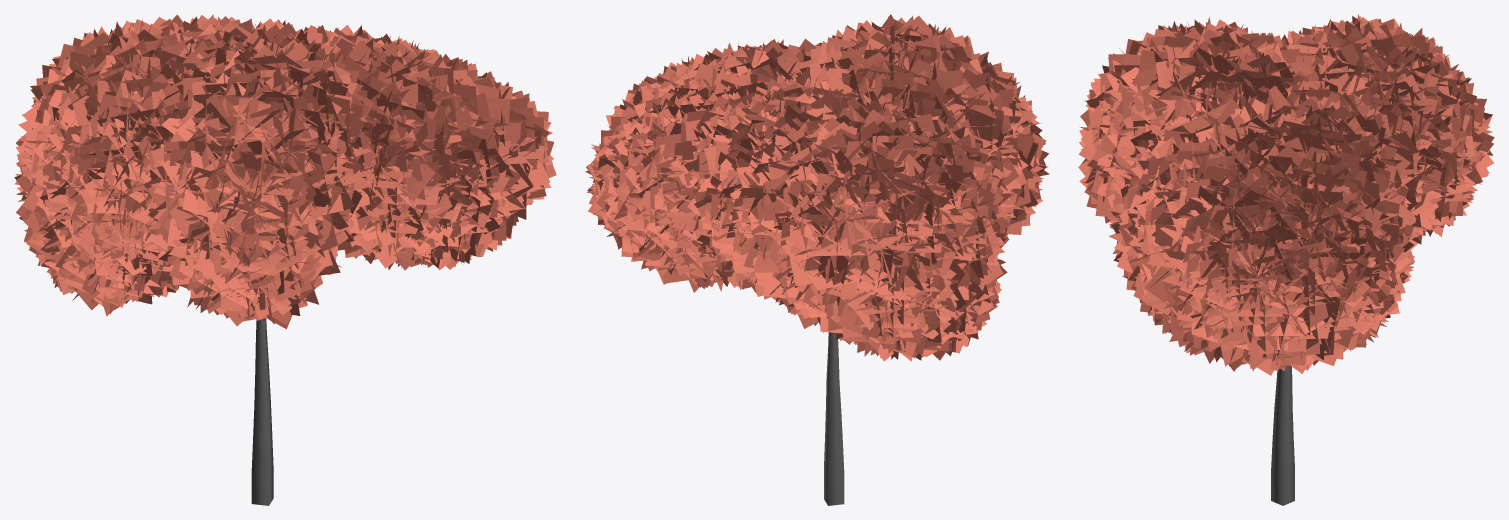
The model's file is DREADTREE3.fbx.
3 renders of one model, left to right at view 1: azimuth 30°, elevation 25°; view 2: azimuth 150°, elevation 25°; view 3: azimuth 270°, elevation 25°, orthographic. The views are drawn at different scales.
Visible parts, largest first — view 1: dreadtree_LOD0; view 2: dreadtree_LOD0; view 3: dreadtree_LOD0.
Boxes of the visible parts, left/top/right/bottom form: dreadtree_LOD0: left=14, top=14, right=556, bottom=505; dreadtree_LOD0: left=585, top=14, right=1049, bottom=505; dreadtree_LOD0: left=1078, top=14, right=1494, bottom=505.
Size of what is drawn, in the model's own units: 1026 by 1040 by 848.
